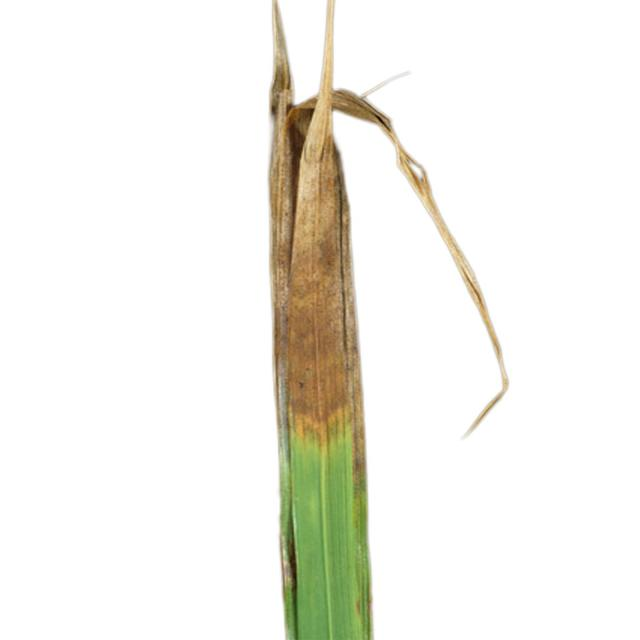Leaf scald: (219, 0, 587, 640)
